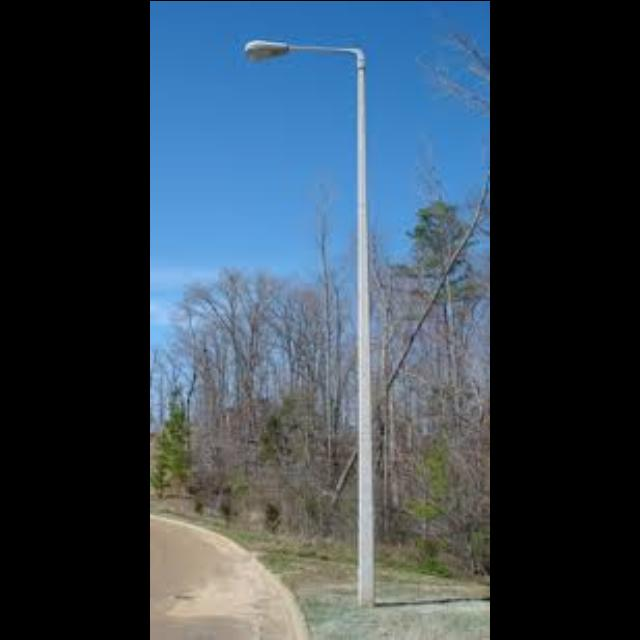Street-Lamp: (230, 15, 424, 640)
